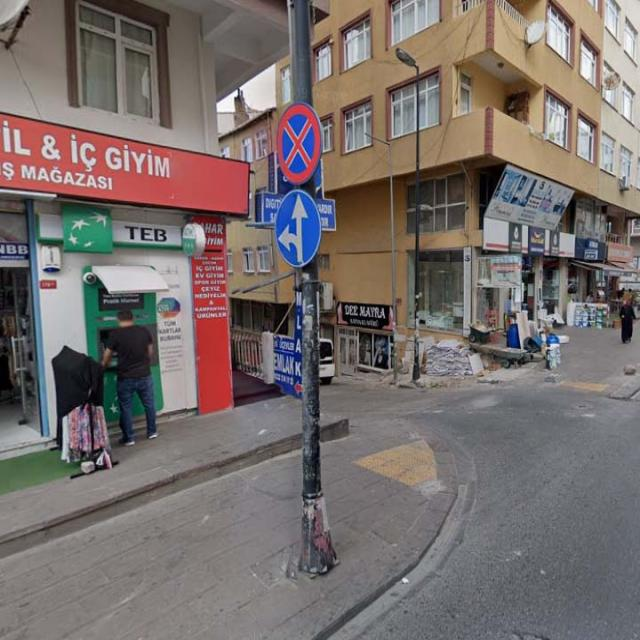ilerisol: (274, 190, 322, 268)
